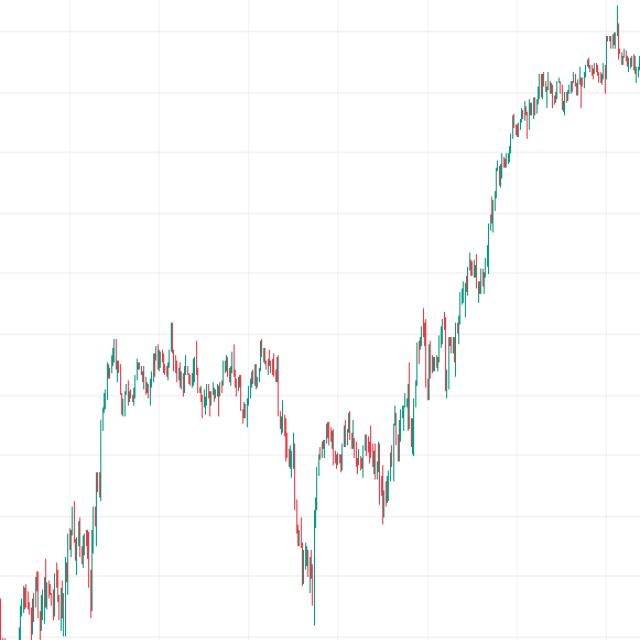Triple-Top: (314, 411, 387, 480)
rectangle: (87, 317, 306, 429)
